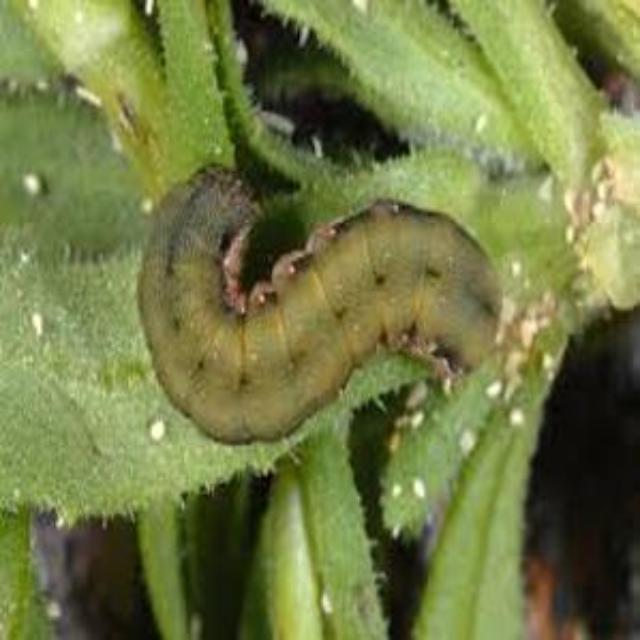Beet armyworm: (100, 96, 566, 526)
